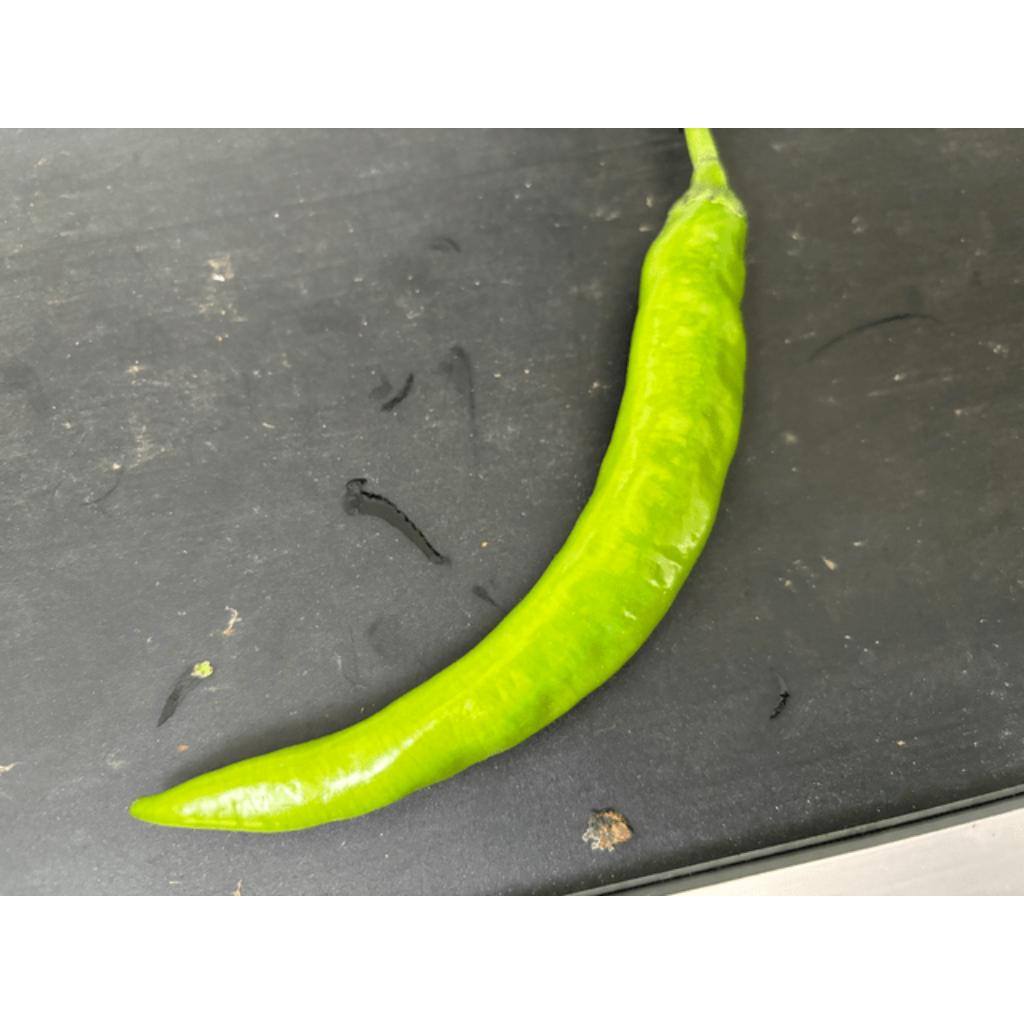chili: (126, 178, 752, 837)
